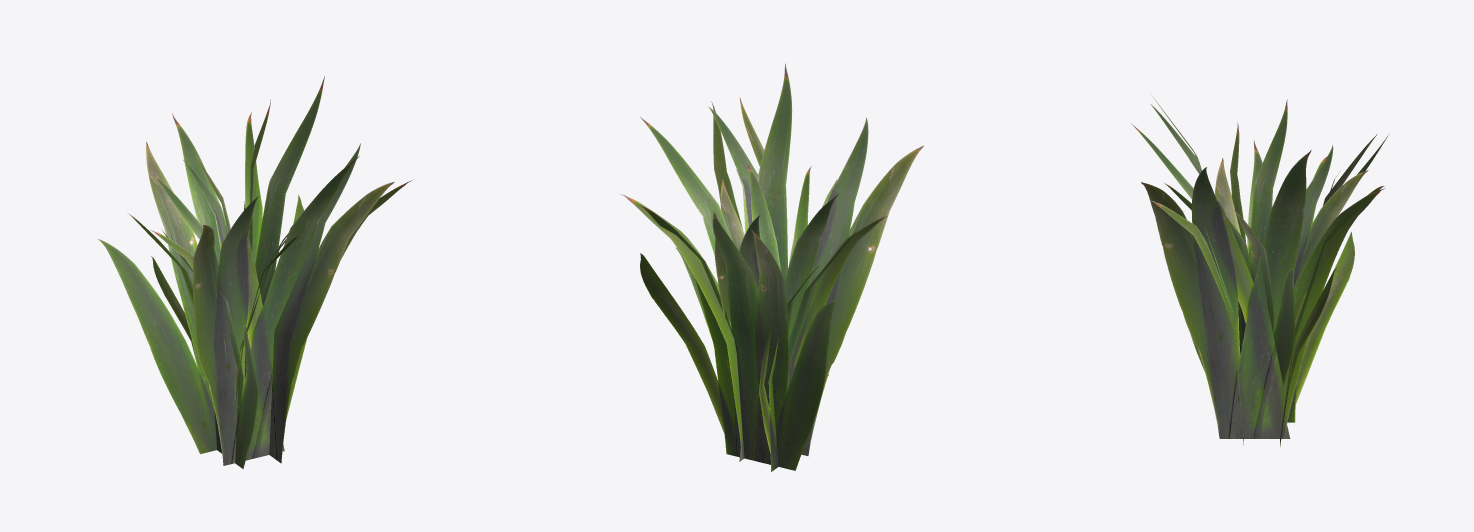
The model's file is Bush_Lilly00.fbx.
3 views of the same model, side by side, from view 1: azimuth 30°, elevation 25°; view 2: azimuth 150°, elevation 25°; view 3: azimuth 270°, elevation 25° (orthographic).
Visible parts, largest first — view 1: Plane002, Plane001, Plane004, Plane003, Plane002__1_, Plane001__1_; view 2: Plane001, Plane002, Plane004, Plane002__1_, Plane001__1_, Plane003; view 3: Plane004, Plane002__1_, Plane003, Plane001__1_, Plane002, Plane001.
Boxes of the visible parts, bbox=[...] form: Plane002: bbox=[193, 156, 412, 465]; Plane001: bbox=[98, 112, 304, 454]; Plane004: bbox=[244, 76, 394, 463]; Plane003: bbox=[128, 213, 258, 468]; Plane002__1_: bbox=[149, 155, 234, 420]; Plane001__1_: bbox=[232, 233, 300, 421]; Plane001: bbox=[639, 205, 835, 470]; Plane002: bbox=[711, 63, 923, 455]; Plane004: bbox=[619, 97, 788, 461]; Plane002__1_: bbox=[713, 193, 887, 367]; Plane001__1_: bbox=[675, 161, 811, 338]; Plane003: bbox=[759, 228, 858, 471]; Plane004: bbox=[1141, 150, 1385, 438]; Plane002__1_: bbox=[1230, 99, 1368, 321]; Plane003: bbox=[1168, 140, 1354, 422]; Plane001__1_: bbox=[1163, 182, 1295, 385]; Plane002: bbox=[1131, 93, 1243, 445]; Plane001: bbox=[1280, 134, 1389, 446].
Size of the model in its own units: 195 by 185 by 195.
